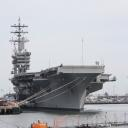Portanaves: (9, 16, 119, 114)
